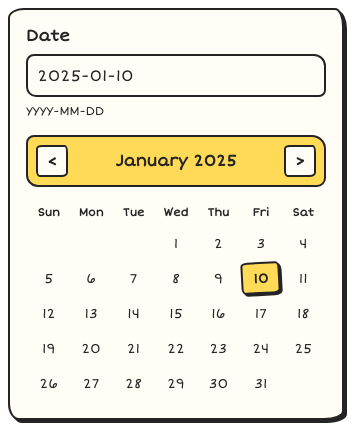
Scenario: WelkDatePicker › selects dates, notifies and submits an ISO date without submitting on click
Click the button named "Friday, January 24, 2025".
click(261, 348)  # box [241, 332, 280, 364]
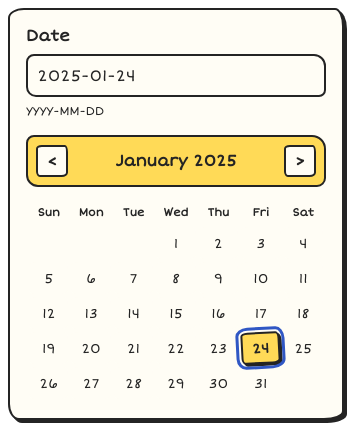
Check: the field labelled "Date" holds "2025-01-24", box [26, 54, 326, 97]
